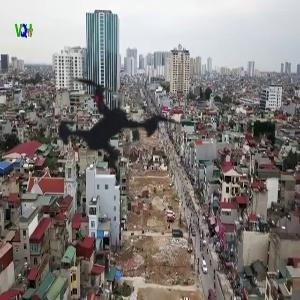drone: (10, 23, 209, 222)
